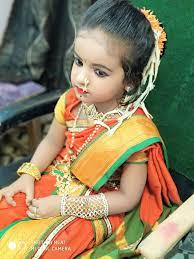Human: (19, 0, 169, 259)
